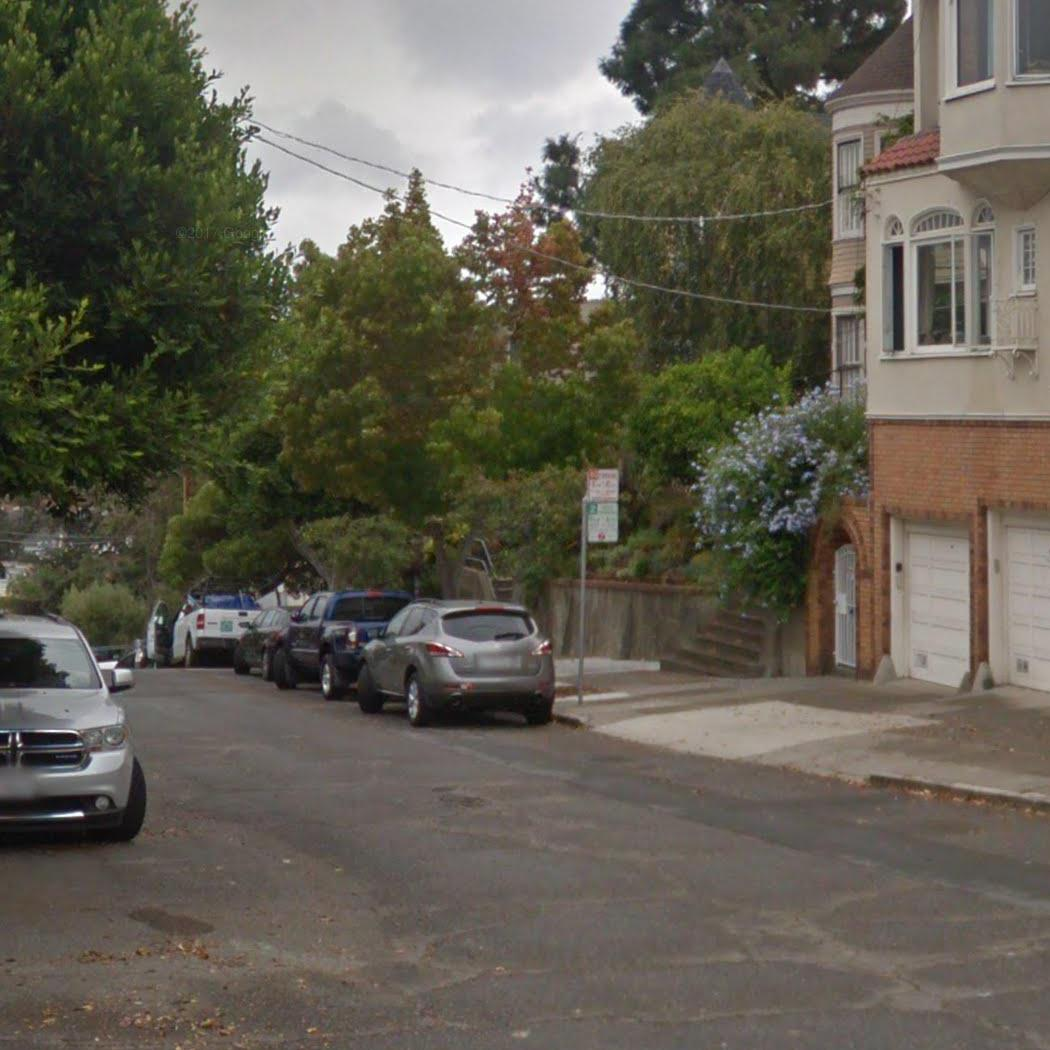2 Hour Parking: (585, 502, 621, 544)
No Parking: (585, 468, 621, 503)
